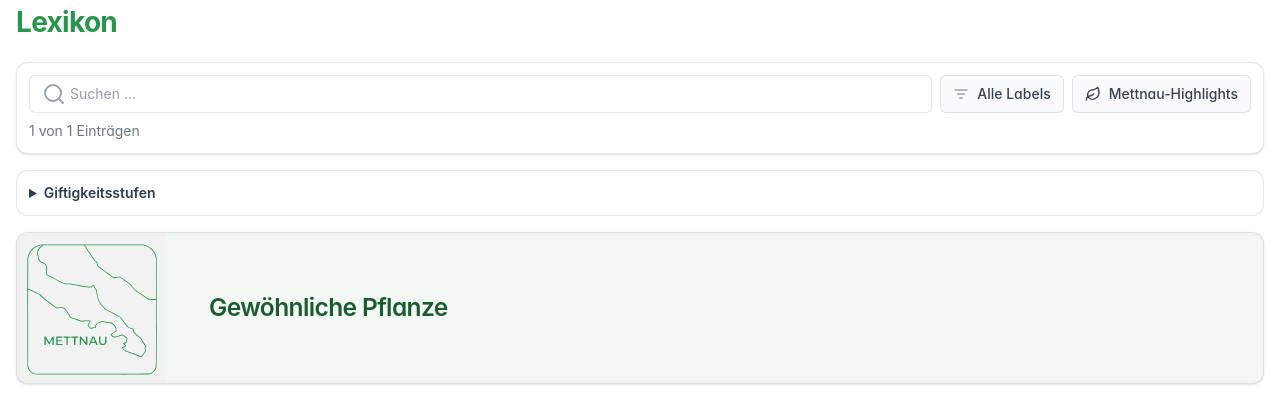
Test: LexiconListView › shows an empty-state reset action and restores entries after reset
Click the button "Mettnau-Highlights". click: click(1161, 94)
box: x1=1072 y1=74 x2=1251 y2=112
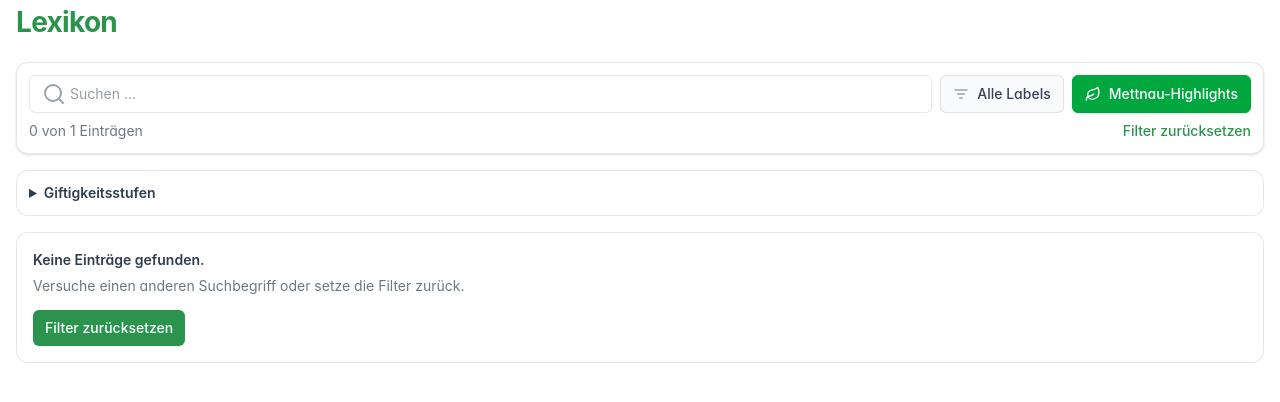
expect no headings are shown: met
expect the text "Keine Einträge gefunden." is shown: met, box x1=33 y1=250 x2=204 y2=268
expect the text "Versuche einen anderen Suchbegriff oder setze die Filter zurück." is shown: met, box x1=33 y1=277 x2=464 y2=294
Click the button "Filter zurücksetzen" below "Keine Einträge gefunden.". click: click(109, 328)
box: x1=33 y1=310 x2=185 y2=346
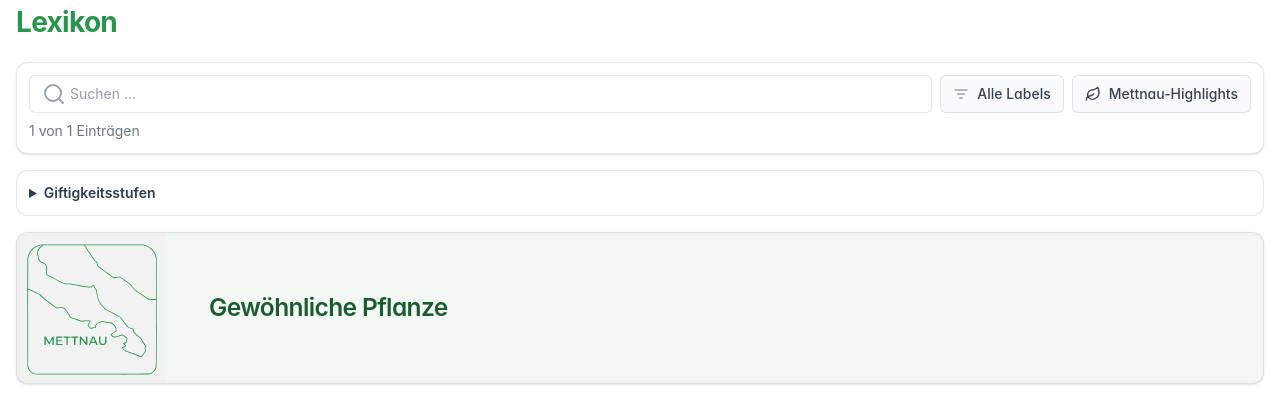
expect the headings read "Gewöhnliche Pflanze", in this order: met, box x1=209 y1=288 x2=448 y2=327
